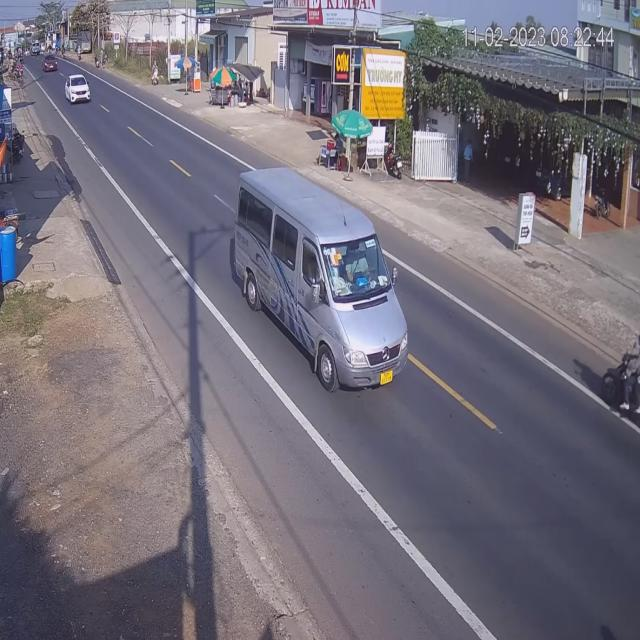bus: (233, 164, 403, 395)
car: (65, 74, 90, 104), (43, 52, 57, 74)
motorbike: (600, 341, 640, 436)
